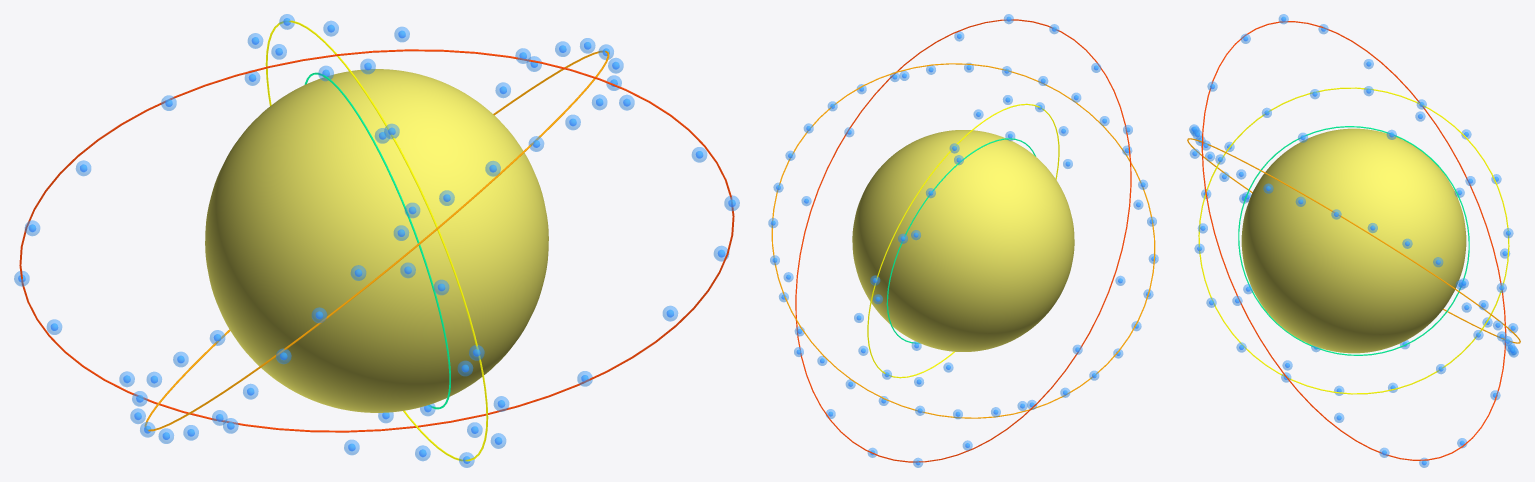
The picture shows the model from 3 angles, left to right: view 1: azimuth 30°, elevation 25°; view 2: azimuth 150°, elevation 25°; view 3: azimuth 270°, elevation 25°; orthographic projection. The views are drawn at different scales.
Parts seen in each view (by area): view 1: Pt, object 126, object 61, object 24, object 7; view 2: Pt, object 126, object 61, object 24, object 7; view 3: Pt, object 126, object 24, object 7, object 61.
Boxes of the visible parts, x1,y1,x2,y2 form: Pt: [205, 69, 548, 412]; object 126: [19, 49, 734, 432]; object 61: [144, 50, 609, 431]; object 24: [265, 20, 488, 461]; object 7: [304, 72, 450, 409]; Pt: [852, 130, 1074, 351]; object 126: [795, 19, 1131, 462]; object 61: [771, 63, 1155, 418]; object 24: [867, 103, 1059, 378]; object 7: [886, 138, 1036, 343]; Pt: [1241, 128, 1466, 353]; object 126: [1201, 21, 1506, 460]; object 24: [1198, 87, 1509, 394]; object 7: [1238, 126, 1469, 355]; object 61: [1187, 138, 1520, 343].
Size of the model in its own units: 6.99 by 6.41 by 5.14.
